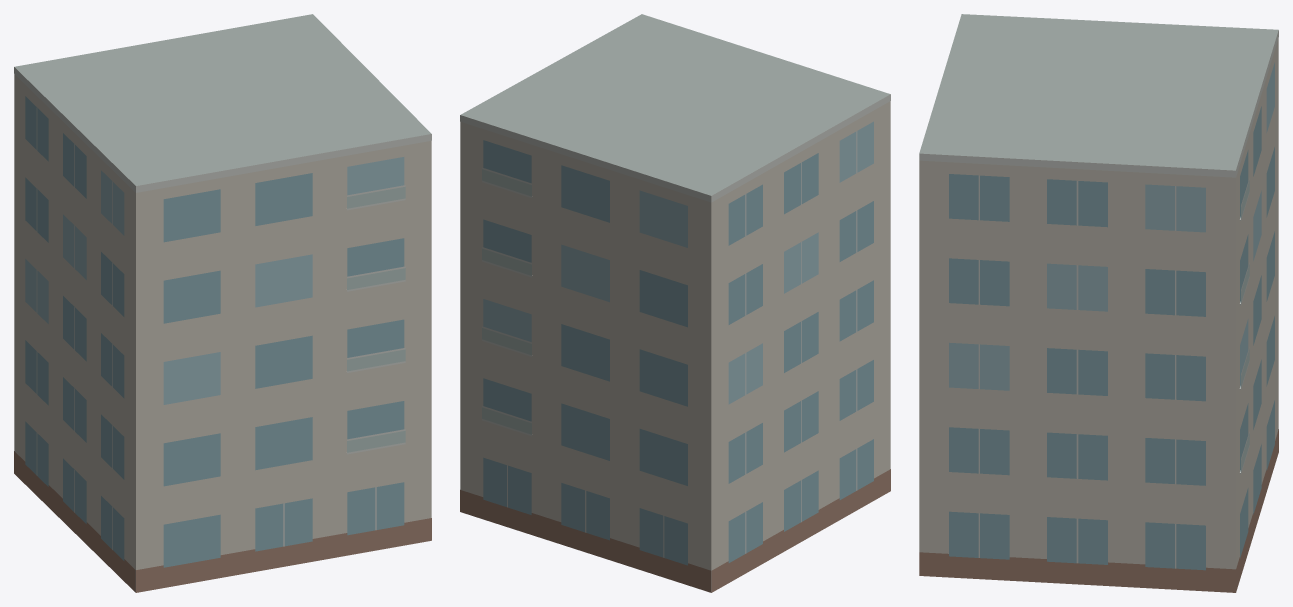
The model's file is survey-upis-32852618.glb.
3 views of the same model, side by side, from view 1: azimuth 30°, elevation 25°; view 2: azimuth 150°, elevation 25°; view 3: azimuth 270°, elevation 25° (orthographic). The views are drawn at different scales.
Visible parts, largest first — view 1: survey-upis-32852618.tmp; view 2: survey-upis-32852618.tmp; view 3: survey-upis-32852618.tmp.
Boxes of the visible parts, x1,y1,x2,y2 form: survey-upis-32852618.tmp: [14, 14, 431, 592]; survey-upis-32852618.tmp: [460, 14, 890, 592]; survey-upis-32852618.tmp: [919, 14, 1278, 592].
Bounding box in the file's own units: 11.58 × 14.55 × 11.24.
